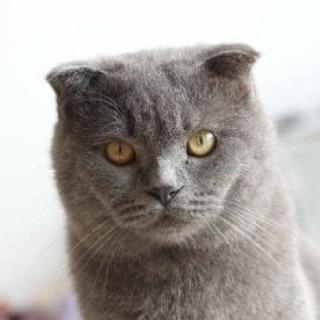cat: (46, 48, 275, 267)
nose: (138, 160, 188, 212)
